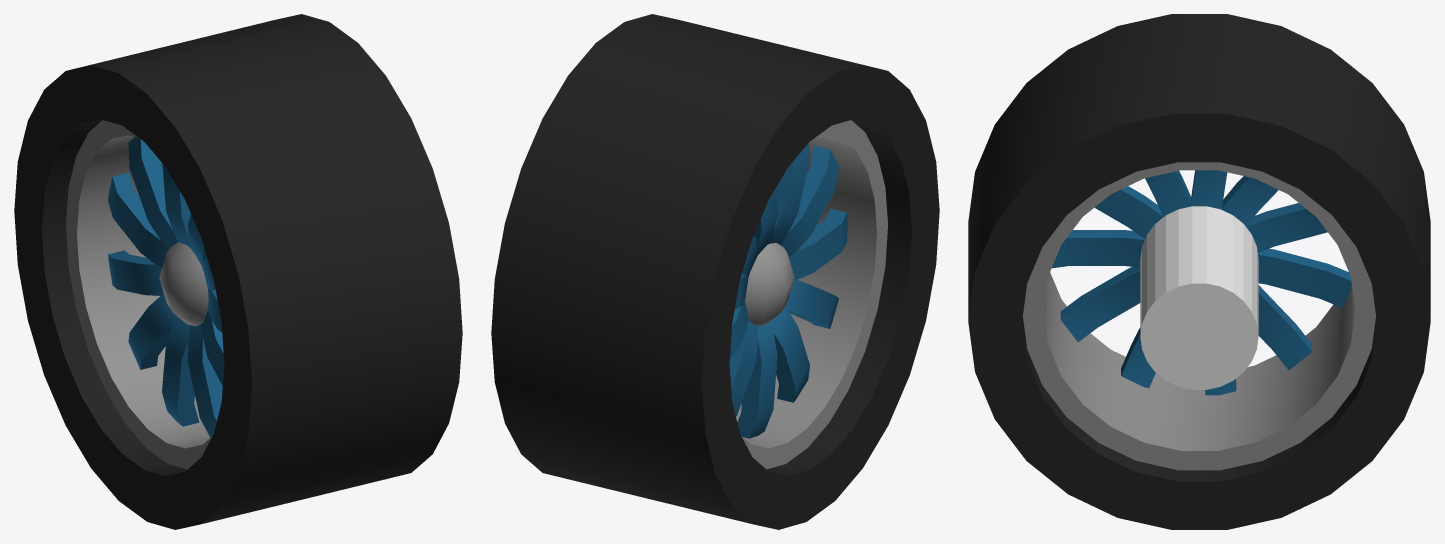
The model's file is Wheel.fbx.
The picture shows the model from 3 angles, left to right: view 1: azimuth 30°, elevation 25°; view 2: azimuth 150°, elevation 25°; view 3: azimuth 270°, elevation 25°; orthographic projection. The views are drawn at different scales.
Parts seen in each view (by area): view 1: Tube, Tube_1, Sphere, Cube_5, Cube_19, Cube_21, Cube_7, Cube_3, Cube_1, Cube_17, Cube_9; view 2: Tube, Tube_1, Sphere, Cube_5, Cube_13, Cube_7, Cube_11, Cube_15, Cube_9, Cube_3, Cube_17, Cube_1; view 3: Tube, Tube_1, Tube_2, Cube_1, Cube_9, Cube_11, Cube_21, Cube_3, Cube_13, Cube_19, Cube_15, Cube_17 (+1 smaller).
Part boxes in pixels (box(x1,y1,x2,y2)): Tube: box(14, 14, 462, 529); Tube_1: box(66, 120, 212, 469); Sphere: box(159, 242, 208, 326); Cube_5: box(162, 316, 199, 426); Cube_19: box(128, 137, 177, 249); Cube_21: box(108, 172, 168, 267); Cube_7: box(188, 324, 222, 437); Cube_3: box(128, 295, 176, 369); Cube_1: box(108, 250, 163, 295); Cube_17: box(162, 163, 190, 247); Cube_9: box(201, 310, 224, 386); Tube: box(491, 14, 939, 529); Tube_1: box(736, 120, 887, 469); Sphere: box(745, 243, 794, 326); Cube_5: box(737, 322, 777, 438); Cube_13: box(781, 145, 838, 256); Cube_7: box(770, 307, 809, 402); Cube_11: box(788, 208, 847, 279); Cube_15: box(770, 143, 809, 244); Cube_9: box(785, 280, 838, 328); Cube_3: box(729, 319, 757, 416); Cube_17: box(753, 189, 777, 254); Cube_1: box(730, 301, 748, 357); Tube: box(968, 14, 1430, 529); Tube_1: box(1023, 162, 1375, 470); Tube_2: box(1140, 206, 1258, 389); Cube_1: box(1258, 248, 1351, 307); Cube_9: box(1060, 267, 1140, 341); Cube_11: box(1052, 230, 1144, 268); Cube_21: box(1246, 203, 1327, 252); Cube_3: box(1258, 285, 1311, 370); Cube_13: box(1094, 186, 1163, 238); Cube_19: box(1222, 176, 1278, 226); Cube_15: box(1145, 171, 1191, 216); Cube_17: box(1191, 170, 1227, 209).
Size of the model in its own units: 50.48 by 85.37 by 86.
